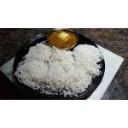idiyappam: (73, 44, 104, 74), (18, 60, 47, 88), (44, 60, 69, 92), (68, 68, 91, 93), (26, 43, 53, 63)
